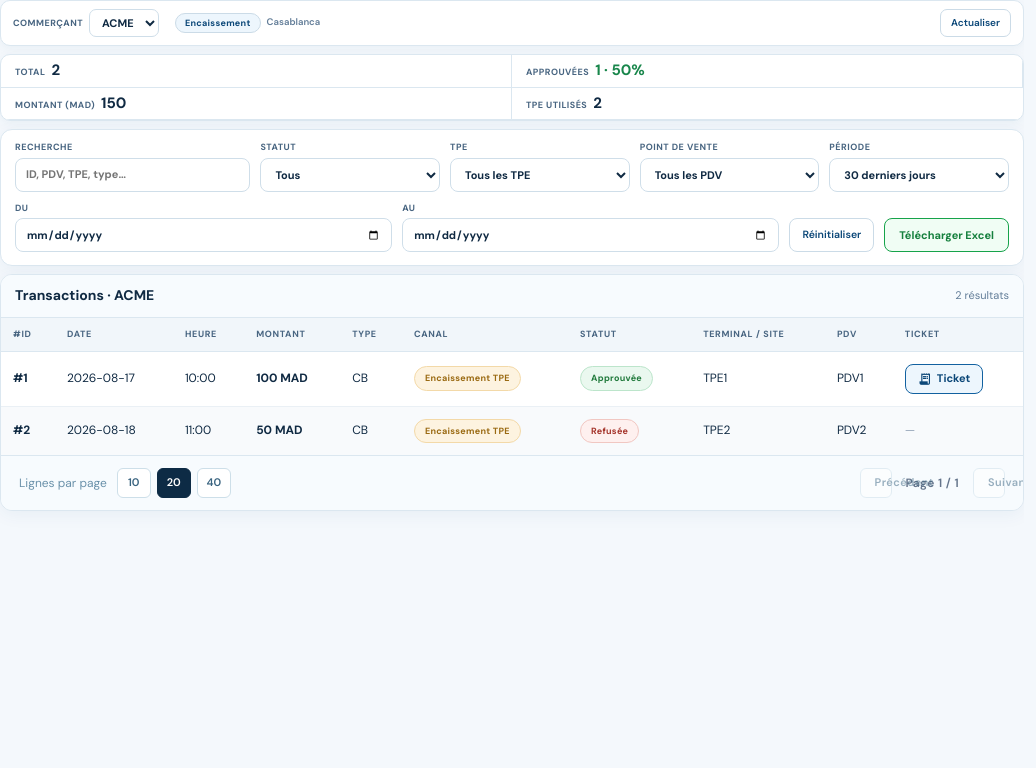
Test case: SupervisorTransactionsPage › affiche une erreur si l'export Excel echoue
The width and height of the screenshot is (1036, 768).
Expected: the text "#1" is shown, [13,370,28,386]
Click the button "Télécharger Excel": click(947, 235) [884,218,1009,252]
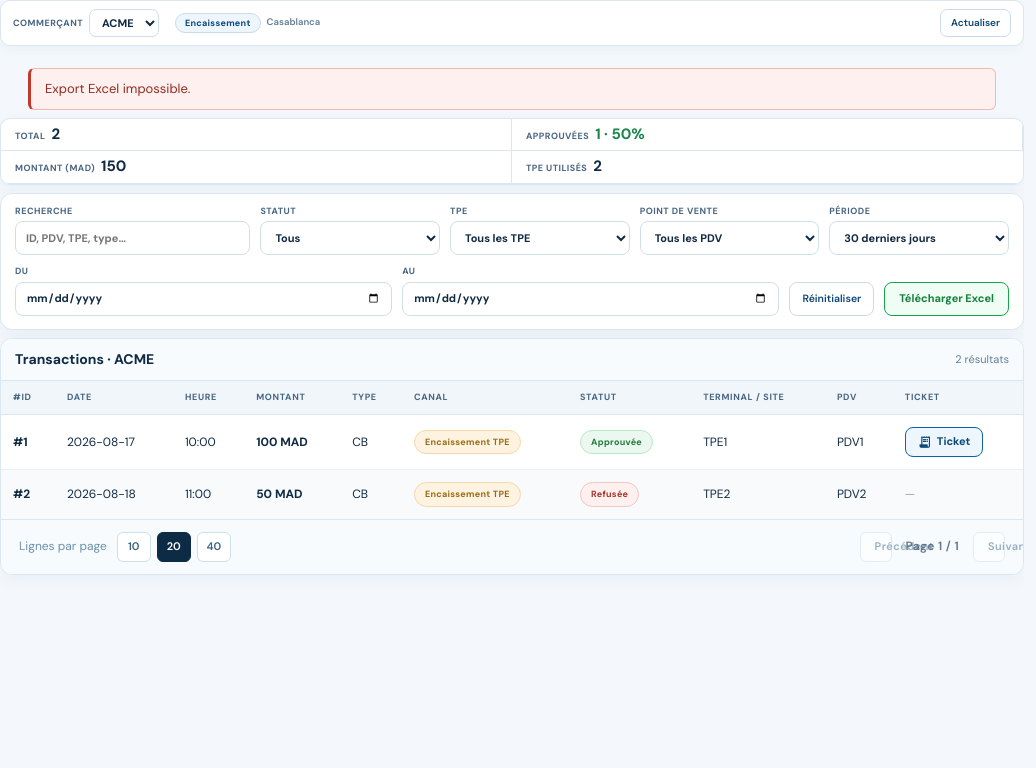
Now the text "Export Excel impossible." is shown, box [28,68,996,110]
